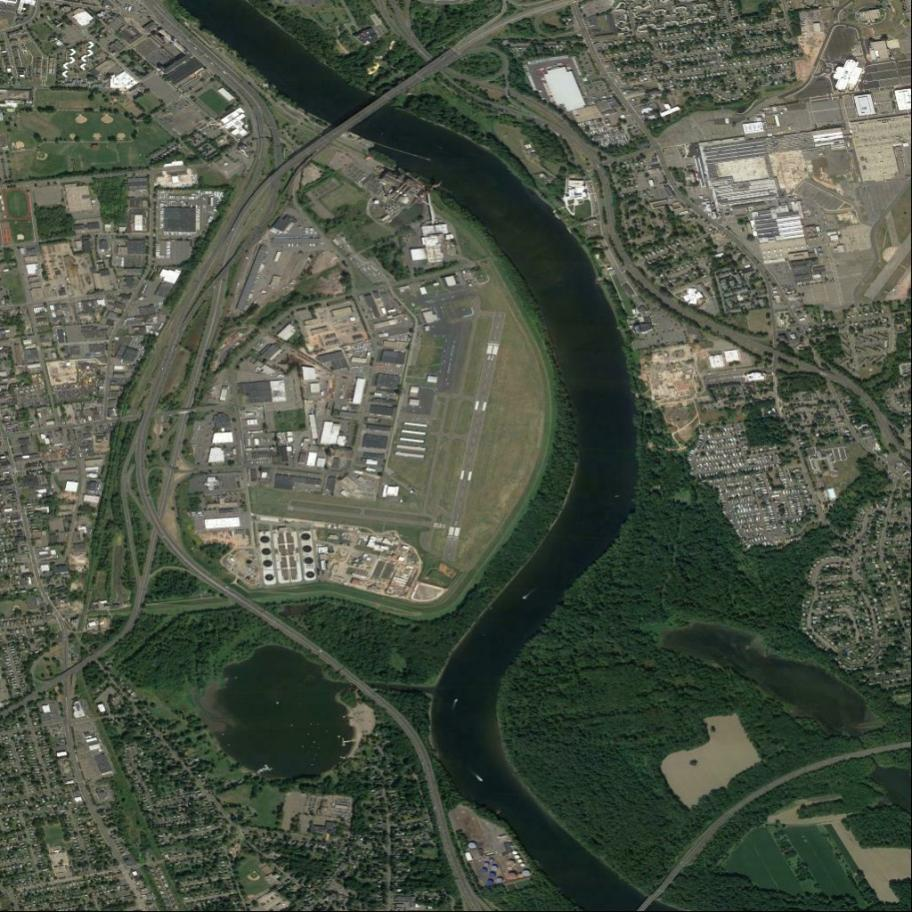storage-tank: (468, 842, 478, 850), (508, 872, 517, 880), (507, 859, 515, 868), (523, 870, 531, 877)
